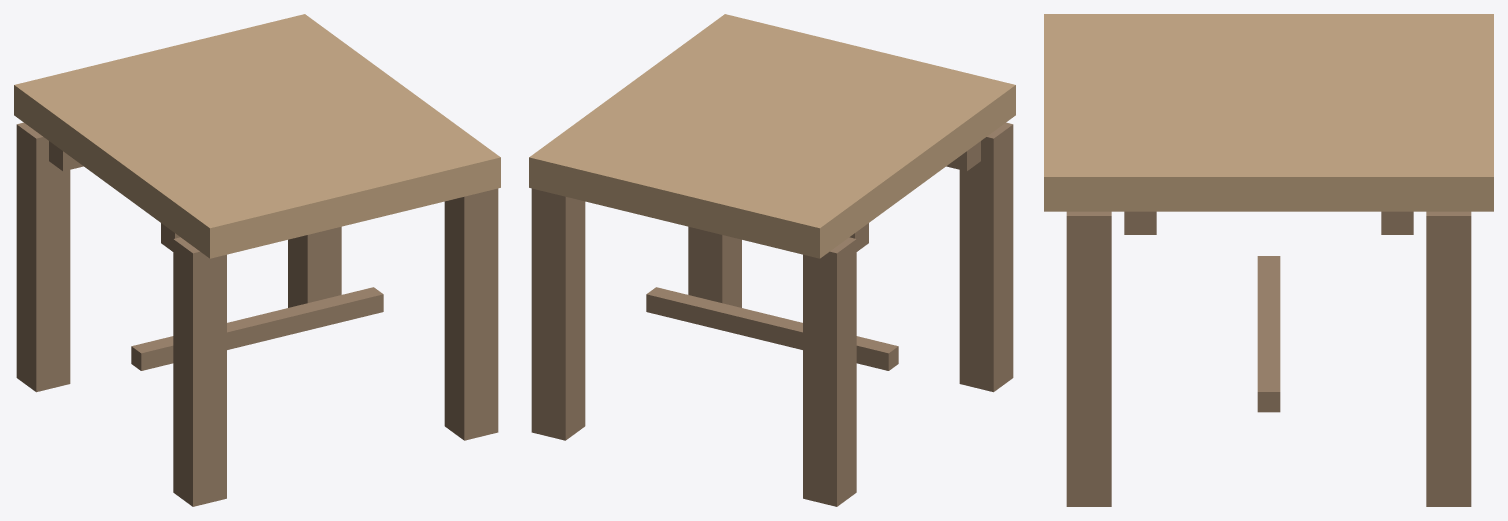
The model's file is furniture_table.glb.
3 views of the same model, side by side, from view 1: azimuth 30°, elevation 25°; view 2: azimuth 150°, elevation 25°; view 3: azimuth 270°, elevation 25° (orthographic). The views are drawn at different scales.
Parts seen in each view (by area): view 1: wood, wood_dark; view 2: wood, wood_dark; view 3: wood, wood_dark.
Boxes of the visible parts, box(x1,y1,x2,y2) form: wood: box(14, 14, 500, 258); wood_dark: box(16, 122, 498, 506); wood: box(529, 14, 1015, 258); wood_dark: box(531, 122, 1013, 506); wood: box(1044, 14, 1493, 211); wood_dark: box(1066, 211, 1471, 506).
Bounding box in the file's own units: 0.63 × 0.56 × 0.7.
